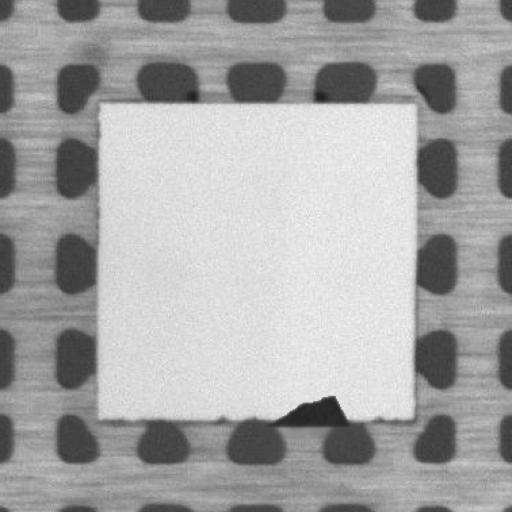DIE_BROKEN: (265, 392, 351, 427)
